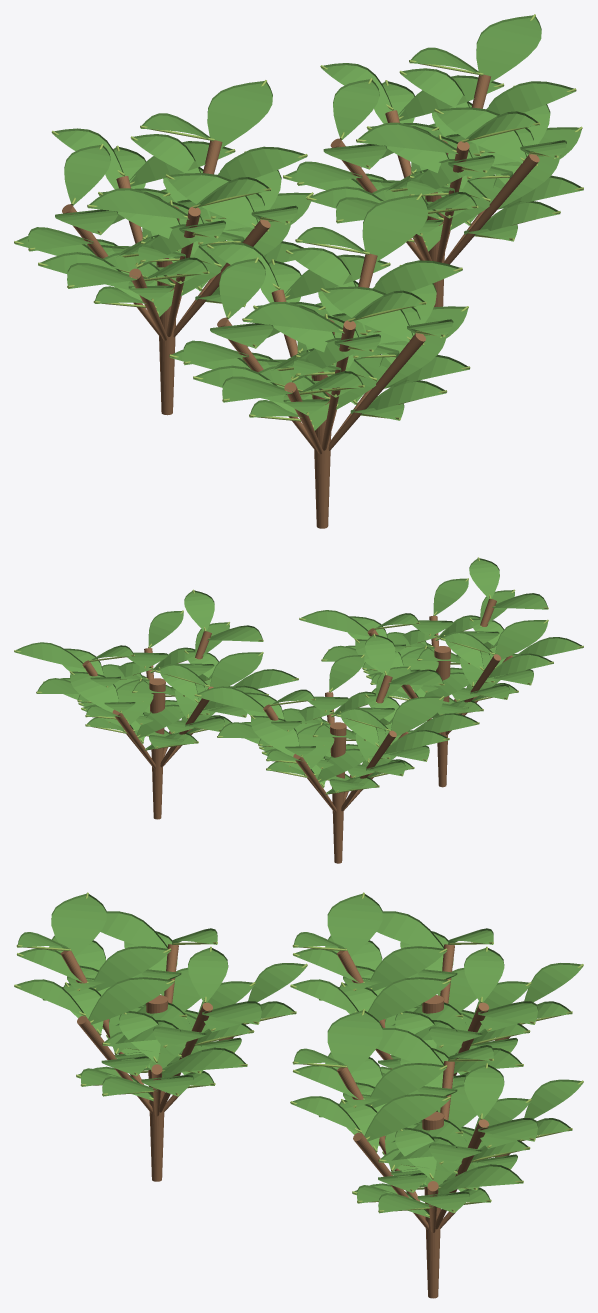
File: tea-garden-and-processing-house-tea-garden-and-process-110f232c__30751.glb
3 renders of one model, top to bottom at view 1: azimuth 30°, elevation 25°; view 2: azimuth 150°, elevation 25°; view 3: azimuth 270°, elevation 25°, orthographic. The views are drawn at different scales.
Visible parts, largest first — view 1: tea-garden-and-processing-house-tea-hedge-corner; view 2: tea-garden-and-processing-house-tea-hedge-corner; view 3: tea-garden-and-processing-house-tea-hedge-corner.
Boxes of the visible parts, x1=… form: tea-garden-and-processing-house-tea-hedge-corner: x1=14, y1=14, x2=583, y2=528; tea-garden-and-processing-house-tea-hedge-corner: x1=14, y1=557, x2=583, y2=863; tea-garden-and-processing-house-tea-hedge-corner: x1=14, y1=892, x2=583, y2=1298.
Bounding box in the file's own units: 1.41 × 0.6377 × 1.34.
